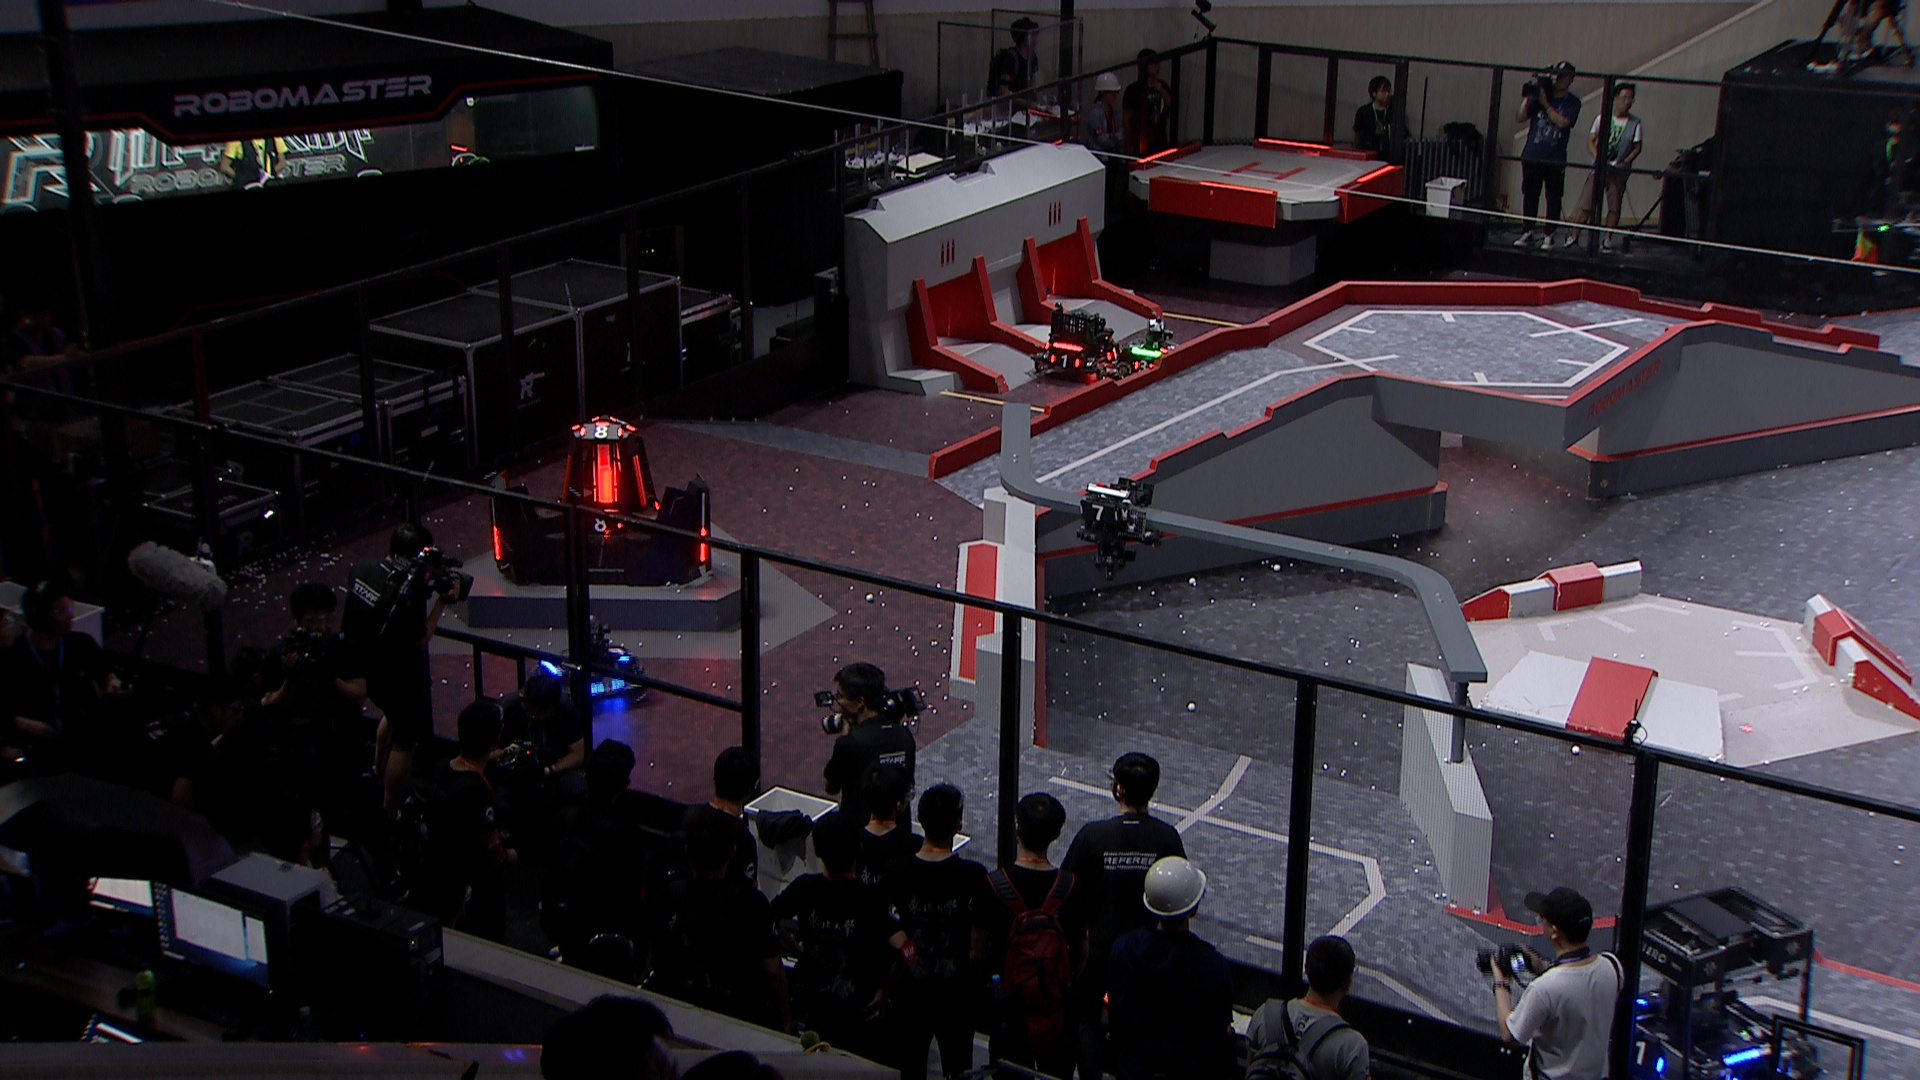armor: (1629, 1039, 1665, 1073), (593, 462, 618, 506), (632, 452, 650, 510), (556, 451, 575, 505), (1077, 501, 1120, 524), (585, 676, 624, 699), (578, 425, 626, 442), (585, 517, 624, 535), (1044, 352, 1083, 371), (491, 524, 506, 564), (695, 527, 712, 564), (605, 645, 632, 665), (1102, 343, 1125, 363), (1129, 357, 1155, 372)
base: (484, 417, 713, 589)
car: (1604, 887, 1816, 1080), (531, 611, 651, 712), (1027, 302, 1126, 382), (1112, 318, 1183, 381)
watcher: (1073, 476, 1163, 580)
